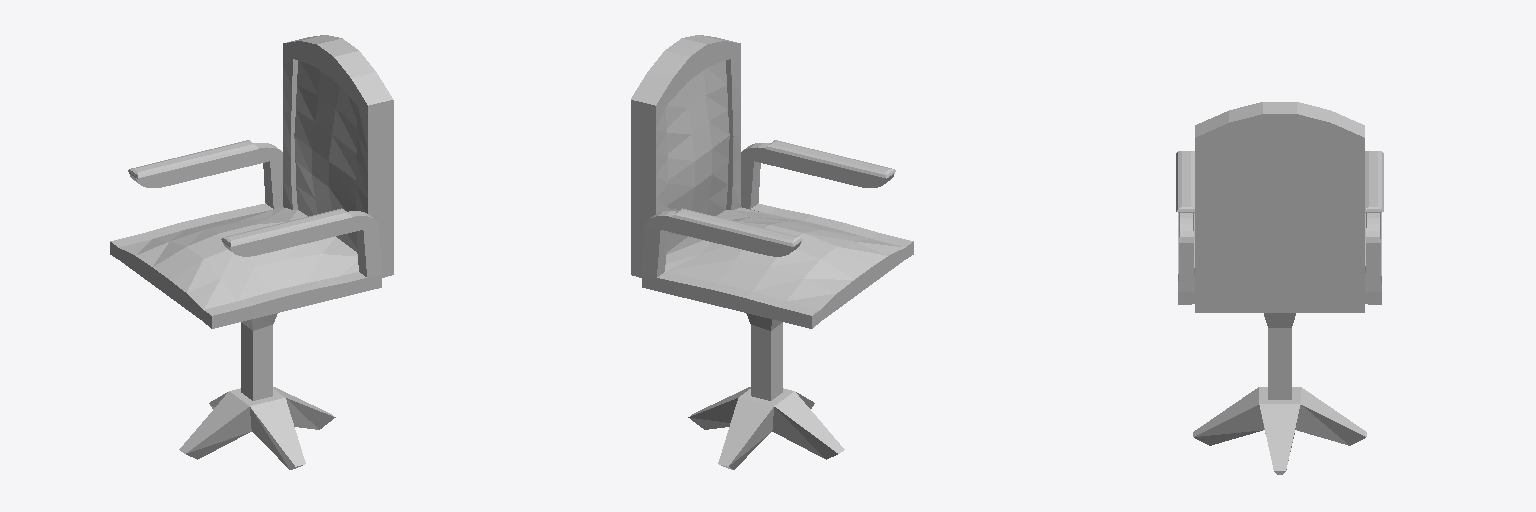
File: Chair.obj
3 renders of one model, left to right at view 1: azimuth 30°, elevation 25°; view 2: azimuth 150°, elevation 25°; view 3: azimuth 270°, elevation 25°, orthographic.
Parts seen in each view (by area): view 1: Chair; view 2: Chair; view 3: Chair.
Part boxes in pixels (x1,y1,x2,y2): Chair: (110, 35, 393, 469); Chair: (631, 35, 913, 469); Chair: (1176, 102, 1383, 474).
Bounding box in the file's own units: 0.6725 × 1.27 × 0.6357.